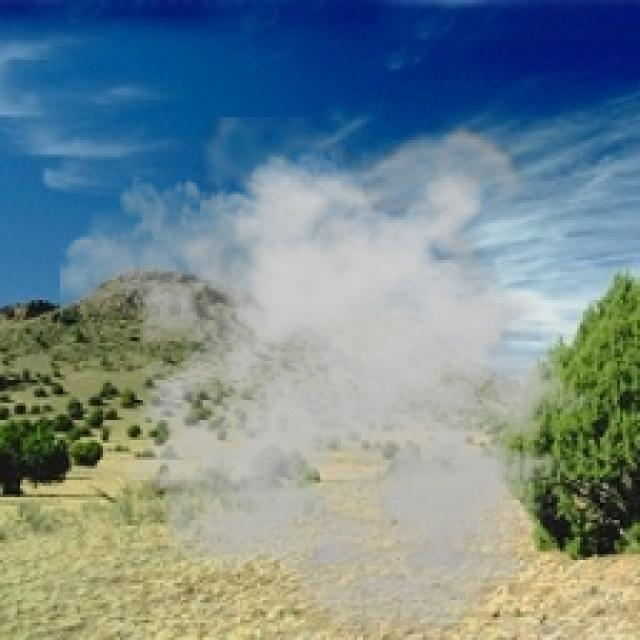smoke: (60, 117, 623, 637)
